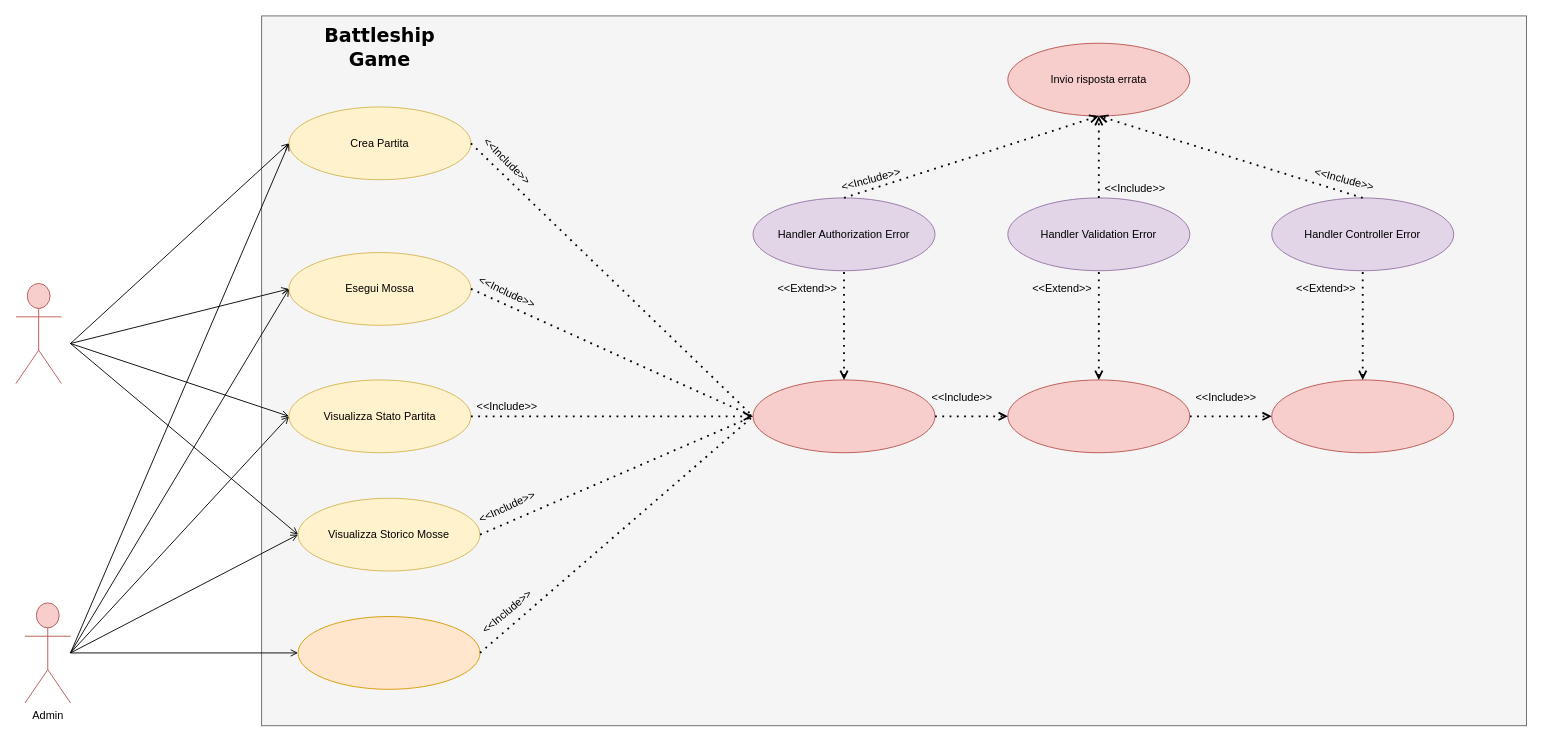
The diagram is 1542 pixels wide and 742 high, and some of its shapes have lost their labels. The centre of each missing label's shape, as x and y in pixels:
Autenticazione JWT: pixel 843 416
Esegui rotta ed invia risposta corretta: pixel 1362 416
Ricarica Token: pixel 388 652
Utente: pixel 38 333
Validazione Richiesta: pixel 1098 416
